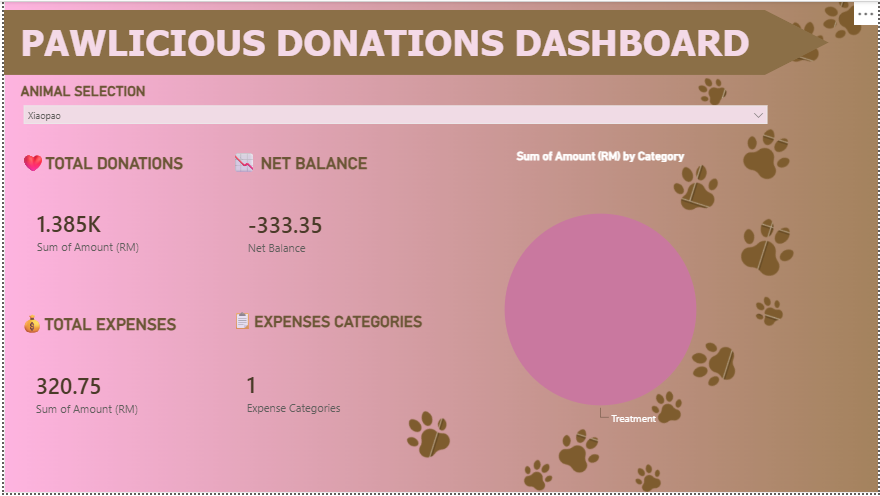

What the dashboard file says about the page in this screenshot:
{"tool":"powerbi","page":{"name":"Page 1","canvas":[1280,720],"ordinal":0},"visuals":[{"type":"image","box":[0,0,1280,720.6],"z":0},{"type":"shape","box":[0,13.2,1207.3,95.1],"z":1000},{"type":"textbox","title":"PAWLICIOUS DONATIONS DASHBOARD","box":[19,27.8,1106.3,67.3],"z":2000},{"type":"cardVisual","title":"❤️TOTAL DONATIONS","fields":{"Data":["Sum(Donations.Amount (RM))"]},"box":[19,216.6,297.1,213.7],"z":4000},{"type":"cardVisual","title":"📉 NET BALANCE","fields":{"Data":["Donations.Net Balance"]},"box":[327.8,216.6,297.1,215.1],"z":5000},{"type":"cardVisual","title":"💰TOTAL EXPENSES","fields":{"Data":["Sum(Expenses.Amount (RM))"]},"box":[17.6,452.2,298.5,215.1],"z":6000},{"type":"cardVisual","title":"📋EXPENSES CATEGORIES","fields":{"Data":["Donations.Expense Categories"]},"box":[326.3,450.7,298.5,216.6],"z":7000},{"type":"pieChart","fields":{"Y":["Sum(Expenses.Amount (RM))"],"Category":["Expenses.Category"]},"box":[639.5,216.6,466.8,450.7],"z":8000},{"type":"slicer","title":"ANIMAL SELECTION","fields":{"Values":["Expenses.Animal"]},"box":[19,120,1107.8,82],"z":9000}]}

Visuals, with their boxes in screenshot pixels (x1, y1, x2, y2), scaled from the page's 1280x720 canvas onto the 880x496 screenshot:
image: [left=0, top=0, right=879, bottom=495]
shape: [left=0, top=9, right=830, bottom=75]
"PAWLICIOUS DONATIONS DASHBOARD" textbox: [left=13, top=19, right=774, bottom=66]
"❤️TOTAL DONATIONS" cardVisual: [left=13, top=149, right=217, bottom=296]
"📉 NET BALANCE" cardVisual: [left=225, top=149, right=430, bottom=297]
"💰TOTAL EXPENSES" cardVisual: [left=12, top=312, right=217, bottom=460]
"📋EXPENSES CATEGORIES" cardVisual: [left=224, top=310, right=430, bottom=460]
pieChart - Sum(Expenses.Amount (RM)) x Expenses.Category: [left=440, top=149, right=761, bottom=460]
"ANIMAL SELECTION" slicer: [left=13, top=83, right=775, bottom=139]
